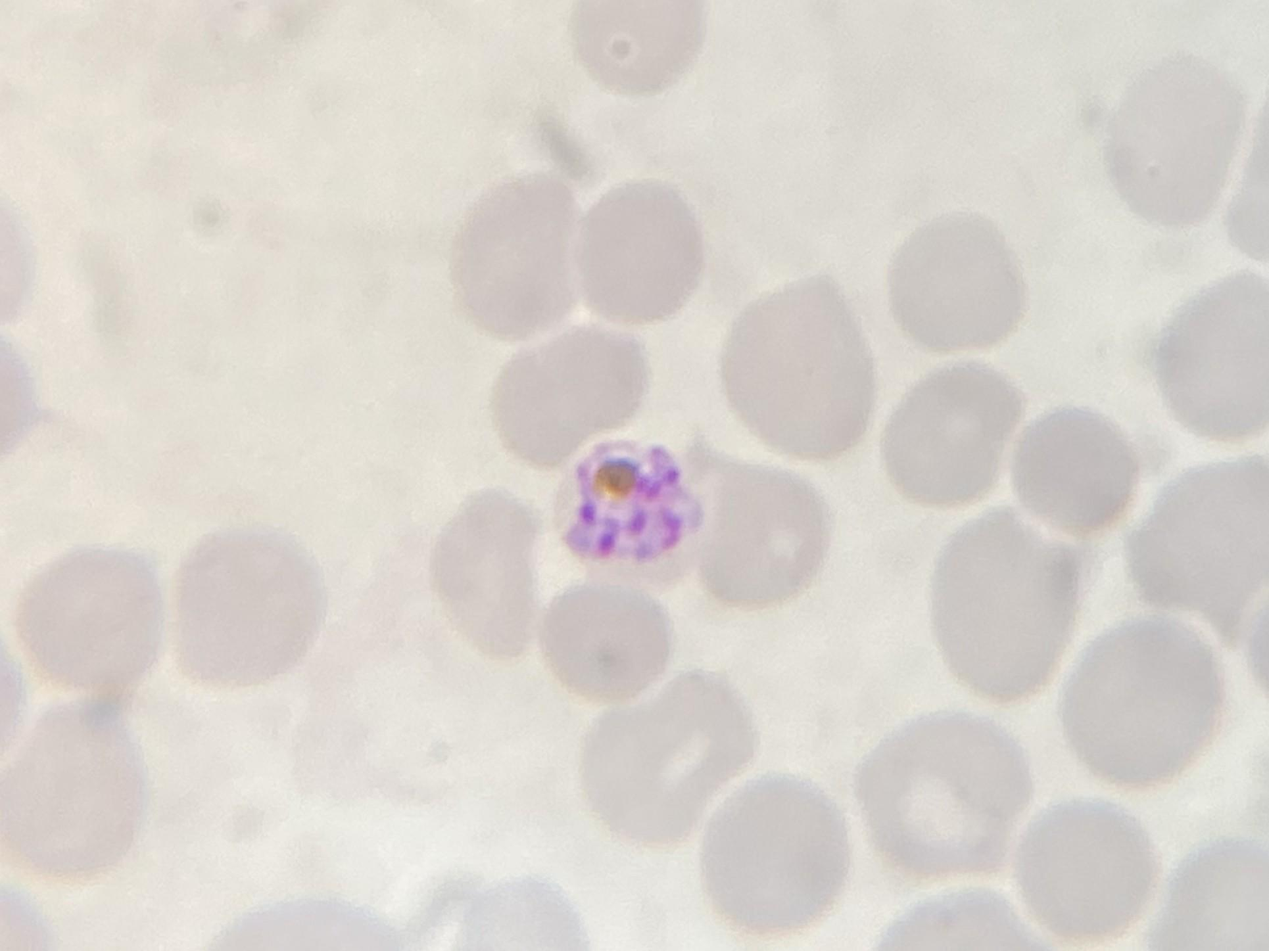Infected: (552, 434, 702, 571)
Uninfected: (927, 498, 1091, 708), (574, 667, 753, 844), (9, 693, 157, 894), (855, 704, 1031, 873), (721, 264, 874, 457), (173, 518, 331, 699), (1063, 610, 1221, 787), (425, 483, 566, 673), (1124, 452, 1269, 635), (688, 424, 832, 607), (1107, 47, 1241, 232), (883, 358, 1034, 520), (489, 318, 651, 464), (454, 180, 598, 344), (706, 767, 851, 924), (881, 202, 1024, 359), (18, 540, 164, 692), (1148, 268, 1269, 447), (565, 178, 706, 328), (1013, 787, 1149, 940), (533, 570, 666, 698), (570, 0, 708, 105), (1010, 408, 1133, 525)
